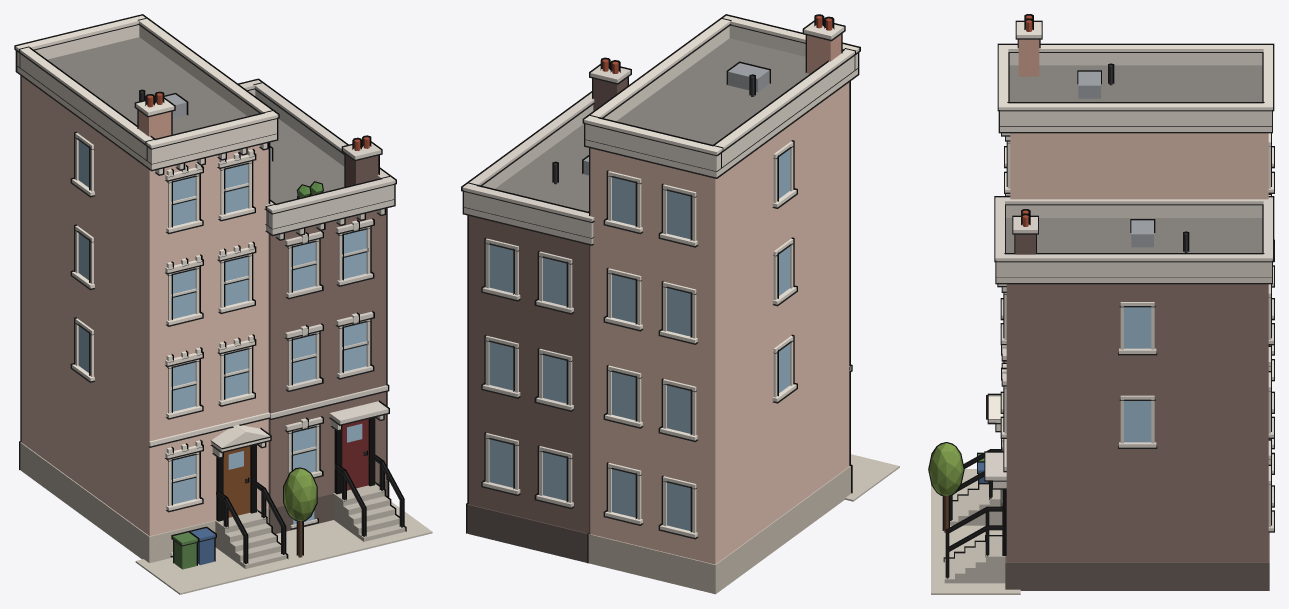
Rendered from SiraEv_karisik_1_4.fbx.
3 views of the same model, side by side, from view 1: azimuth 30°, elevation 25°; view 2: azimuth 150°, elevation 25°; view 3: azimuth 270°, elevation 25° (orthographic). The views are drawn at different scales.
Parts seen in each view (by area): view 1: SiraEv_karisik_1_4; view 2: SiraEv_karisik_1_4; view 3: SiraEv_karisik_1_4.
Boxes of the visible parts, box(x1,y1,x2,y2) form: SiraEv_karisik_1_4: box(14, 14, 432, 594); SiraEv_karisik_1_4: box(461, 14, 899, 594); SiraEv_karisik_1_4: box(928, 14, 1274, 594).
Size of the model in its own units: 8.55 by 14.85 by 10.06.
